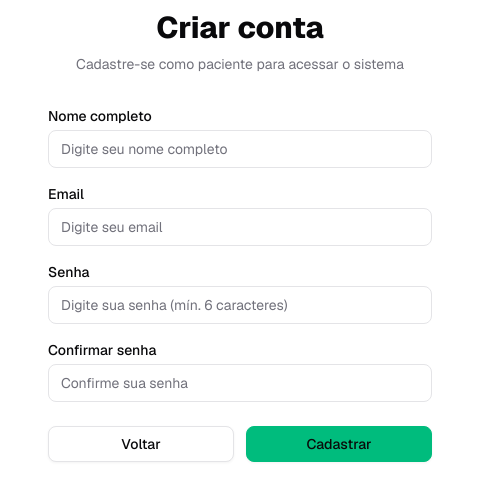
Scenario: Autenticação - Registro › should navigate back to login page
# Clicar no botão voltar
Step 1. Click the button "Voltar" → (141,444), box [48,426,234,462]
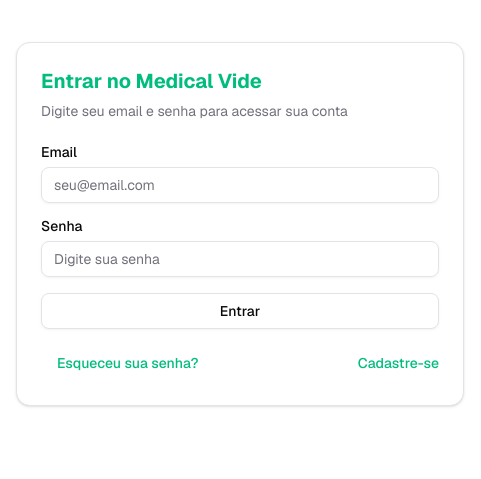
Check: the text "Entrar no Medical Vide" is shown, box [41,68,262,94]
